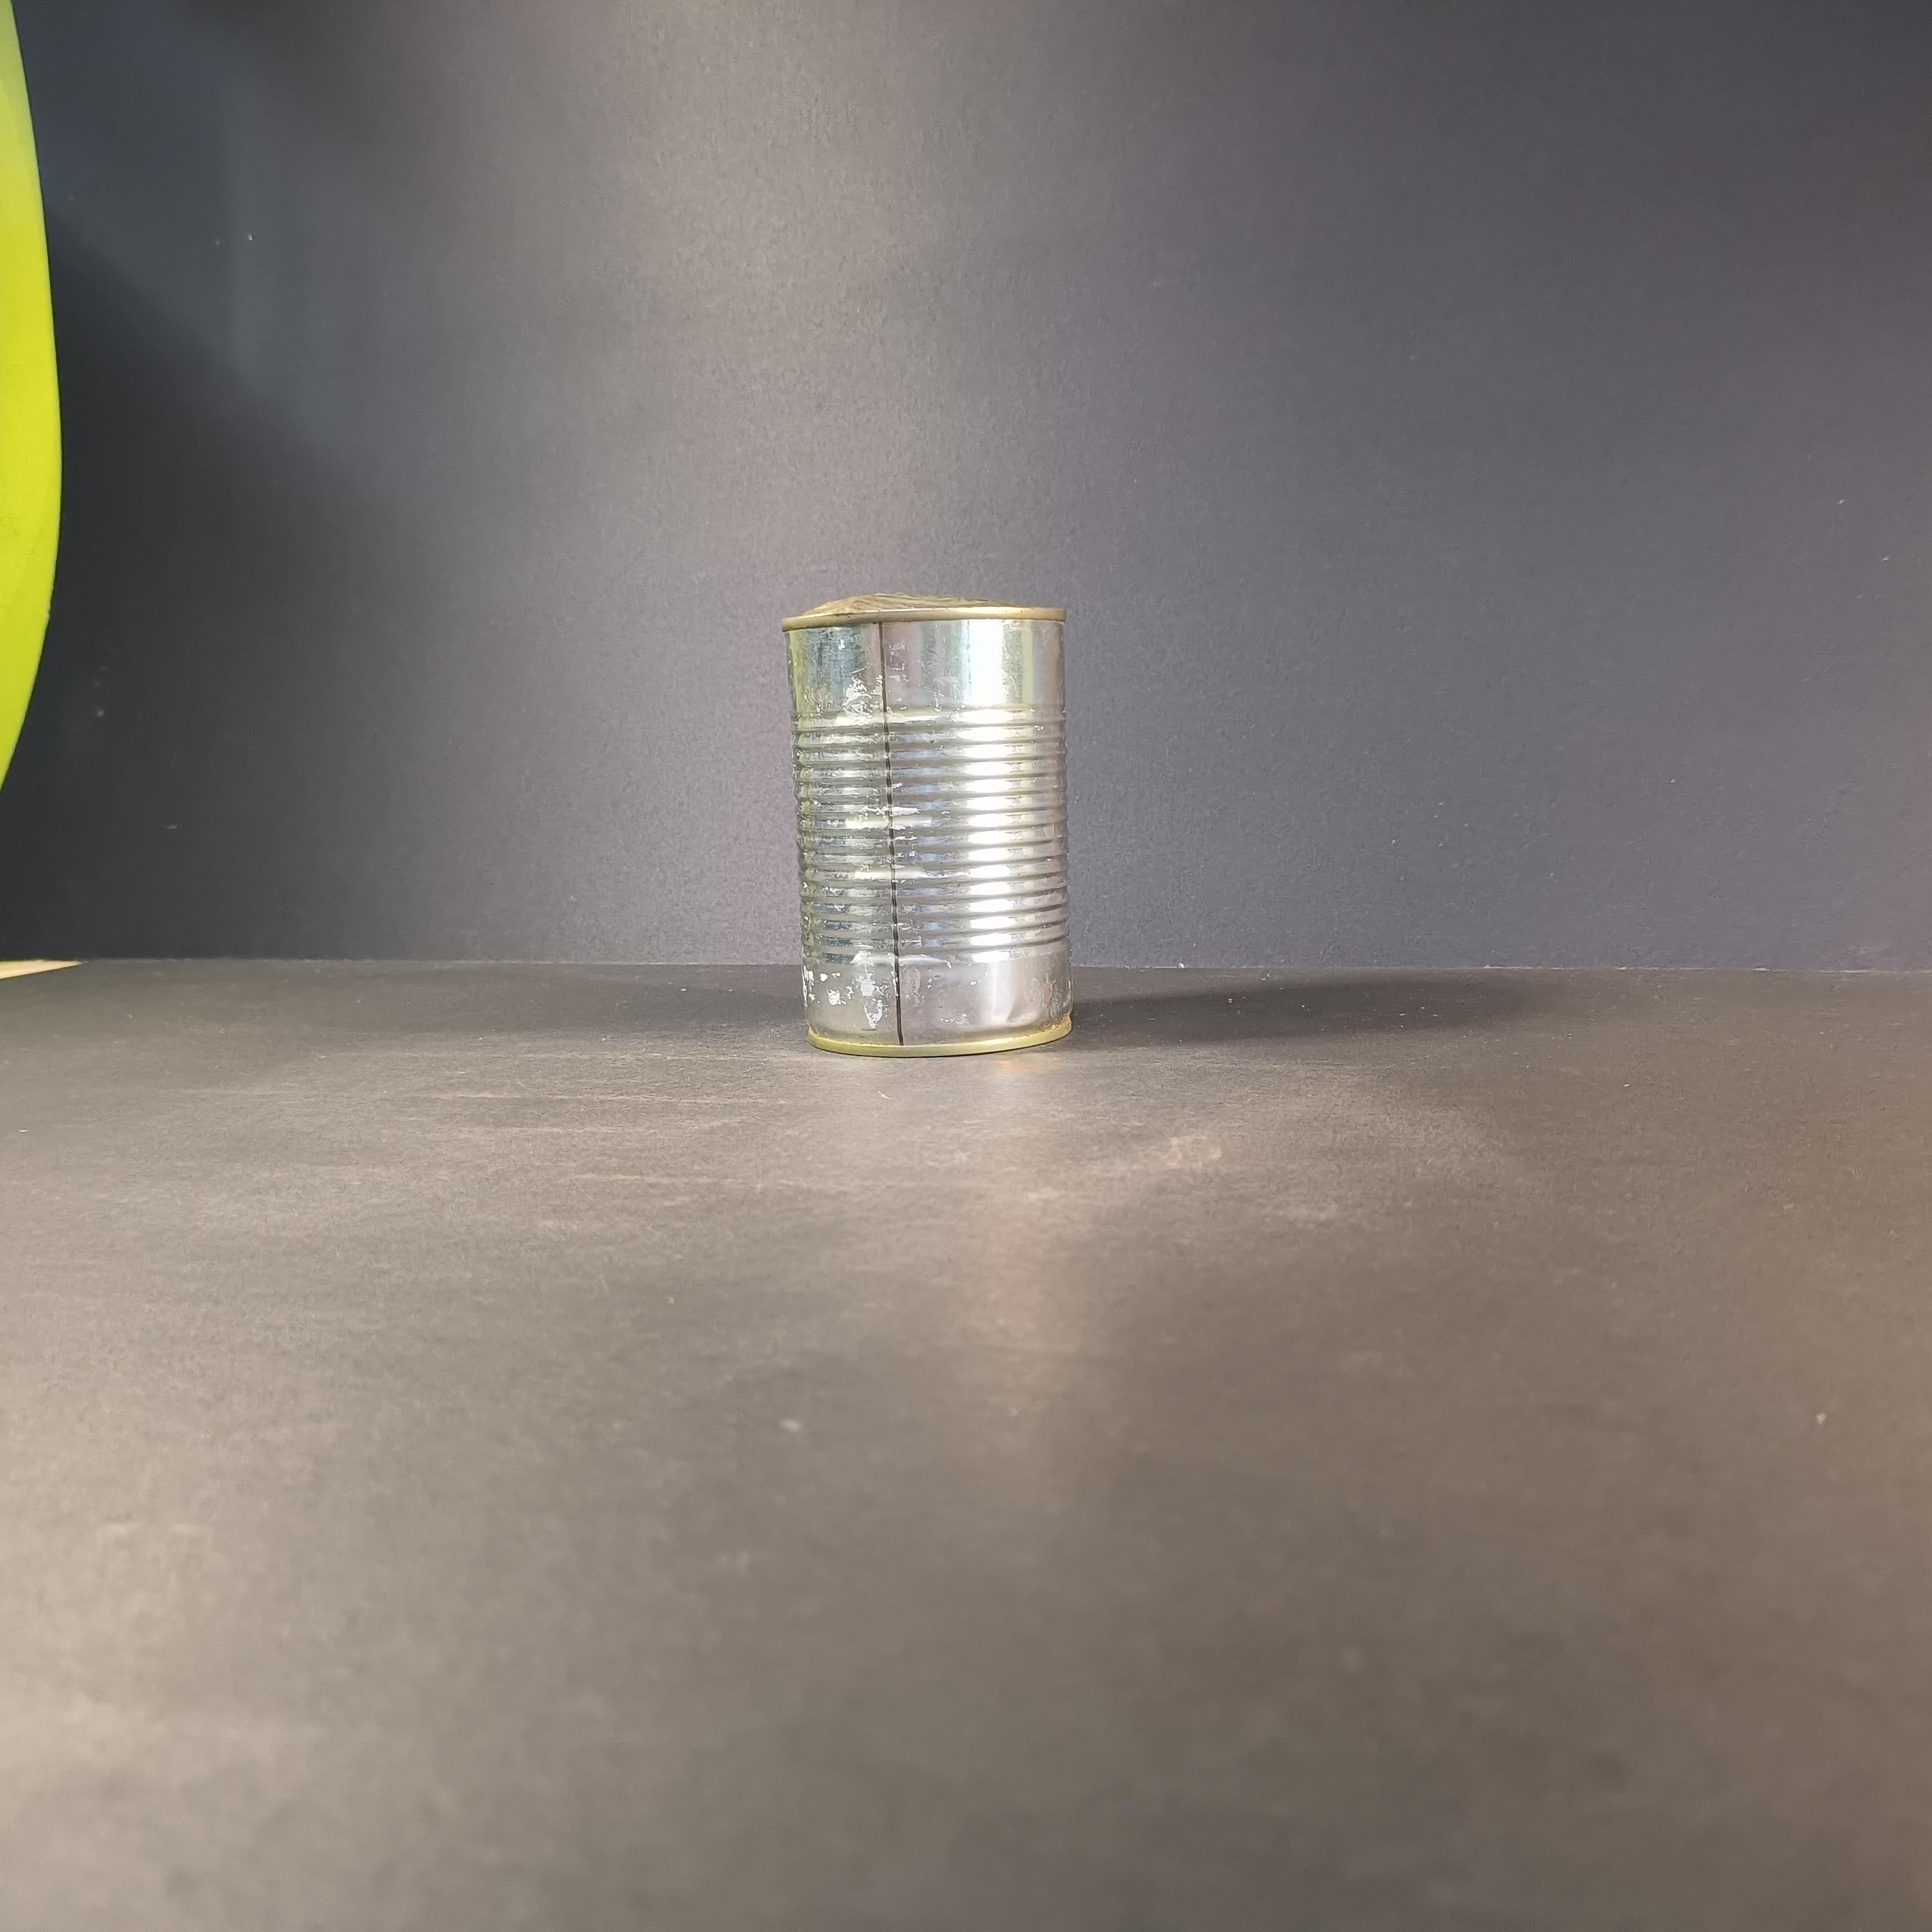Critical Defect: (778, 590, 1074, 1057)
